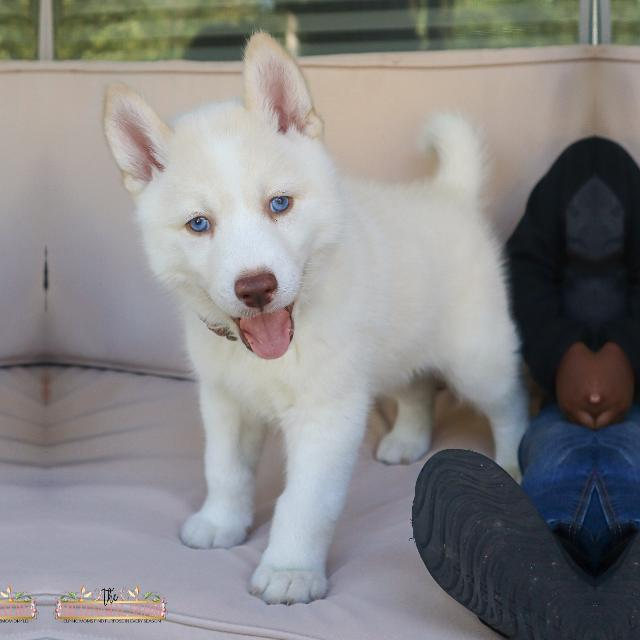dog: (102, 15, 508, 592)
